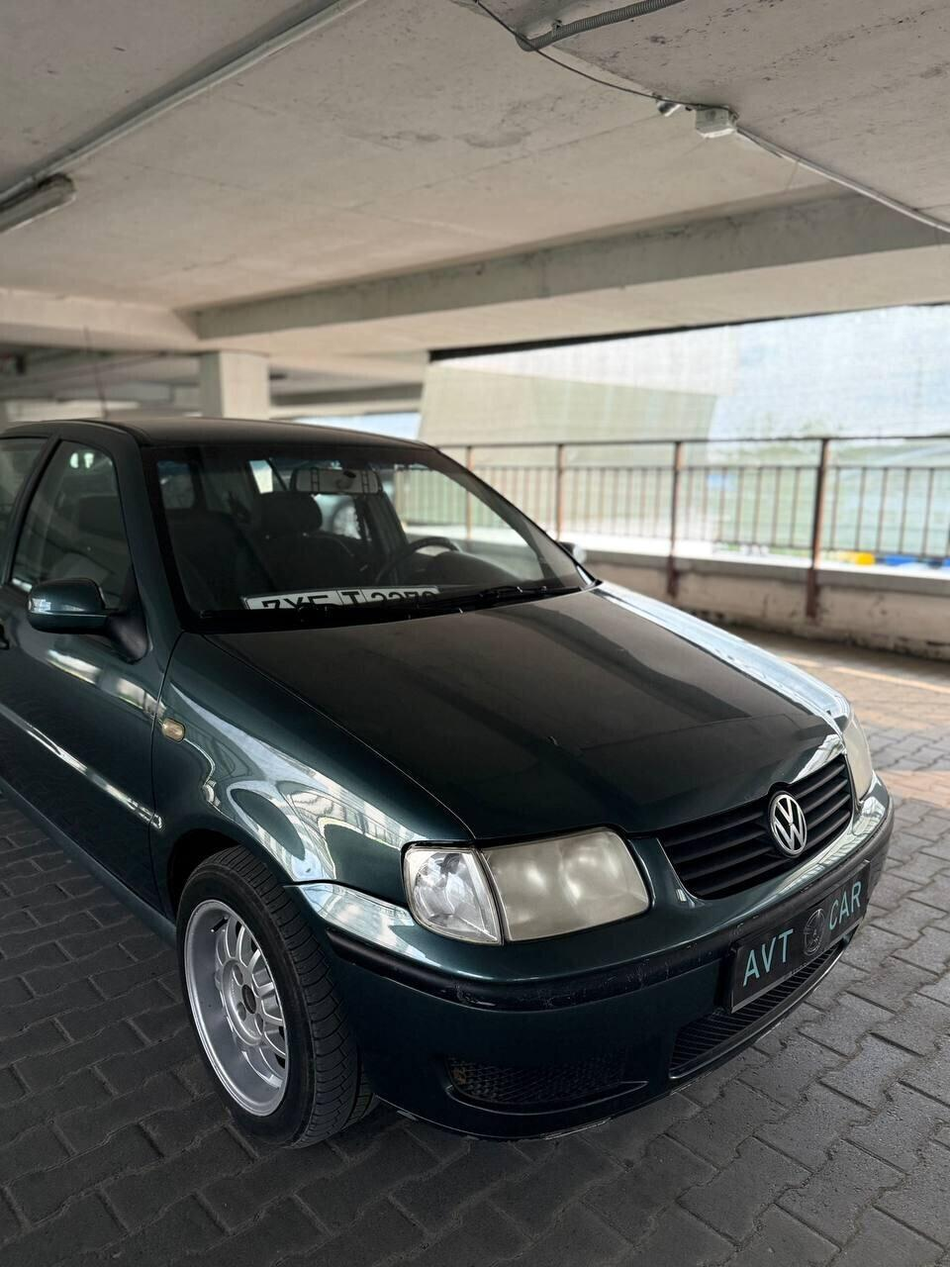Polo_2000-2002: (0, 401, 899, 1190)
